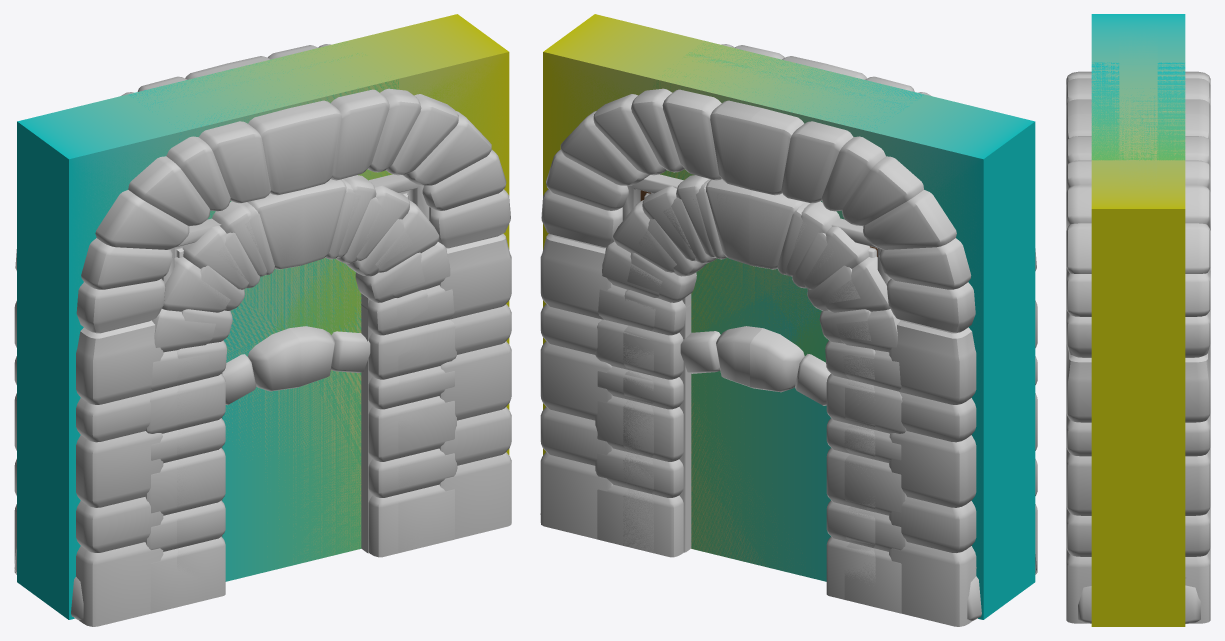
File: Walls.fbx
The picture shows the model from 3 angles, left to right: view 1: azimuth 30°, elevation 25°; view 2: azimuth 150°, elevation 25°; view 3: azimuth 270°, elevation 25°; orthographic projection. The views are drawn at different scales.
Visible parts, largest first — view 1: Arch 01c W, Arch Hole 01 Thick, Arch 01a W, Arch 01b W, Wall 3x3 Thick Double Mat half, Arch Hole 01 Thick DM, Wall 3x3 Thick, Arch Hole 01, Arch Hole 01 DM, Arch 02 c, Door Hole 01 Thick, Door Hole 02a Thick (+4 smaller); view 2: Arch 01c W, Arch Hole 01 Thick, Arch 01a W, Arch Hole 01 Thick DM, Wall 3x3 Thick Double Mat half, Arch 01b W, Arch Hole 01 DM, Arch 02 c, Door Hole 01 Thick, Wall 3x3 Thick, Arch Hole 01, Door Hole 02a Thick (+3 smaller); view 3: Arch Hole 01 Thick, Arch 01c W, Arch Hole 01 Thick DM, Arch Hole 01, Arch Hole 01 DM, Doorway Secret, Wall 3x3 Thick Double Mat half, Wall 3x3 Thick half, Arch 02 c, Wall 3x3 Double Mat half.
Part boxes in pixels (x1,y1,x2,y2): Arch 01c W: (14,44,511,626); Arch Hole 01 Thick: (17,14,509,619); Arch 01a W: (145,175,457,613); Arch 01b W: (177,179,429,599); Wall 3x3 Thick Double Mat half: (129,42,398,581); Arch Hole 01 Thick DM: (17,14,508,619); Wall 3x3 Thick: (69,55,509,619); Arch Hole 01: (32,25,474,564); Arch Hole 01 DM: (32,26,484,601); Arch 02 c: (14,326,370,620); Door Hole 01 Thick: (69,52,509,619); Door Hole 02a Thick: (69,52,509,616); Arch 01c W: (540,44,1037,626); Arch Hole 01 Thick: (543,14,1035,619); Arch 01a W: (595,175,906,613); Arch Hole 01 Thick DM: (544,14,1035,619); Wall 3x3 Thick Double Mat half: (653,43,923,581); Arch 01b W: (623,179,875,599); Arch Hole 01 DM: (567,27,1019,599); Arch 02 c: (540,326,1036,620); Door Hole 01 Thick: (543,52,983,619); Wall 3x3 Thick: (543,54,983,616); Arch Hole 01: (580,28,1019,371); Door Hole 02a Thick: (543,53,983,618); Arch Hole 01 Thick: (1091,14,1185,626); Arch 01c W: (1066,71,1210,623); Arch Hole 01 Thick DM: (1091,14,1185,626); Arch Hole 01: (1119,14,1157,626); Arch Hole 01 DM: (1119,14,1157,626); Doorway Secret: (1119,14,1157,626); Wall 3x3 Thick Double Mat half: (1091,62,1185,160); Wall 3x3 Thick half: (1091,62,1185,159); Arch 02 c: (1078,577,1200,623); Wall 3x3 Double Mat half: (1119,88,1157,160).
Size of what is drawn, in the model's own units: 3 by 3 by 0.9396.
